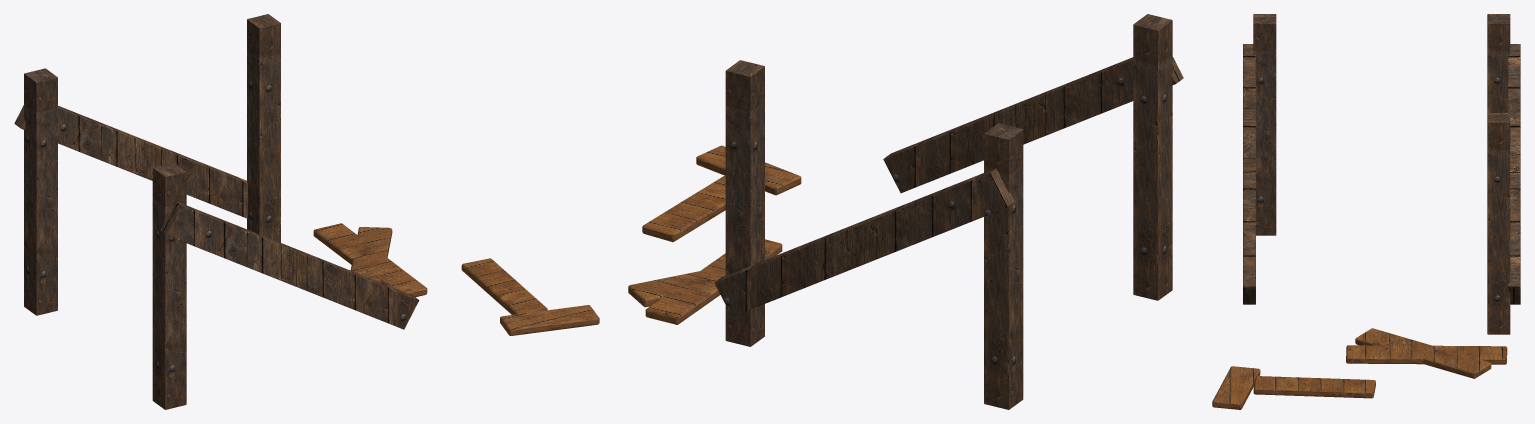
File: broken-crate-v01.glb
3 views of the same model, side by side, from view 1: azimuth 30°, elevation 25°; view 2: azimuth 150°, elevation 25°; view 3: azimuth 270°, elevation 25° (orthographic). The views are drawn at different scales.
Visible parts, largest first — view 1: broken-crate; view 2: broken-crate; view 3: broken-crate.
Part boxes in pixels (x1,y1,x2,y2): broken-crate: (14,14,599,409); broken-crate: (628,14,1183,409); broken-crate: (1212,14,1520,409).
Bounding box in the file's own units: 1.74 × 0.92 × 1.21.
2 materials, 2 textured.
